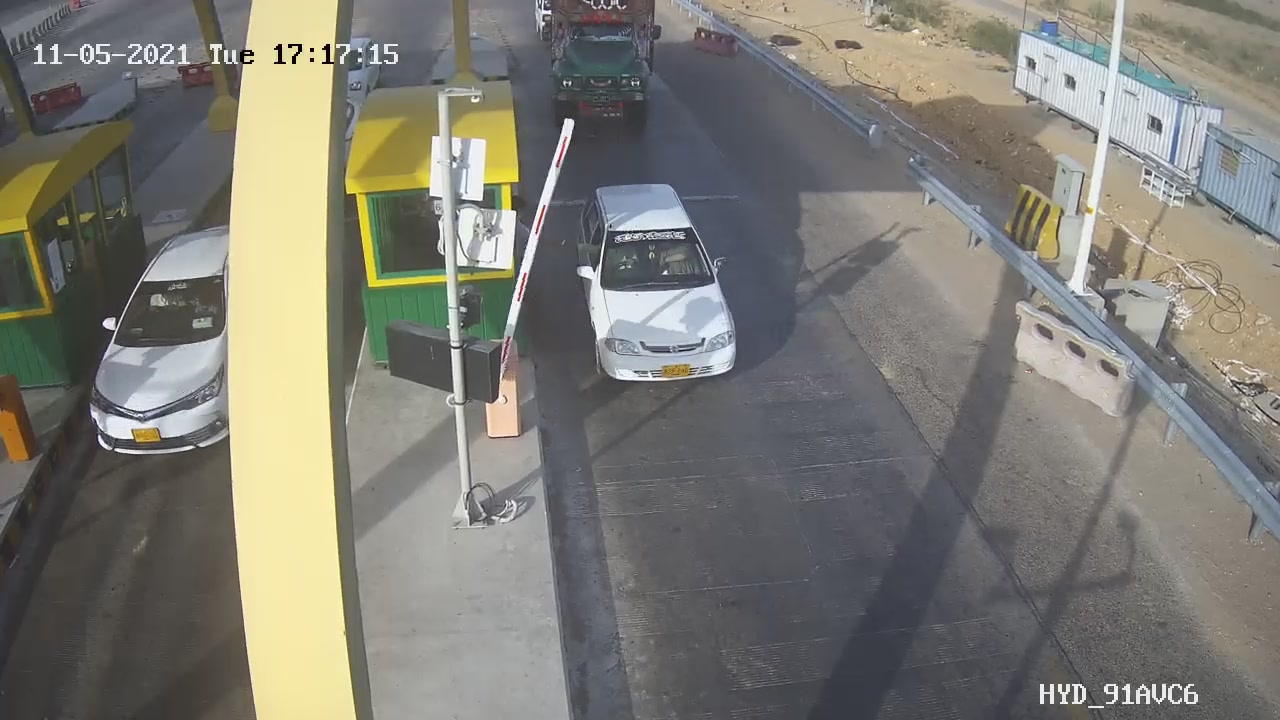F1: (560, 173, 755, 395)
